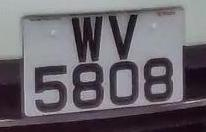0: (106, 56, 142, 110)
5: (28, 59, 73, 116)
8: (67, 59, 112, 111), (140, 53, 176, 106)
V: (107, 9, 142, 64)
W: (65, 8, 110, 64)
